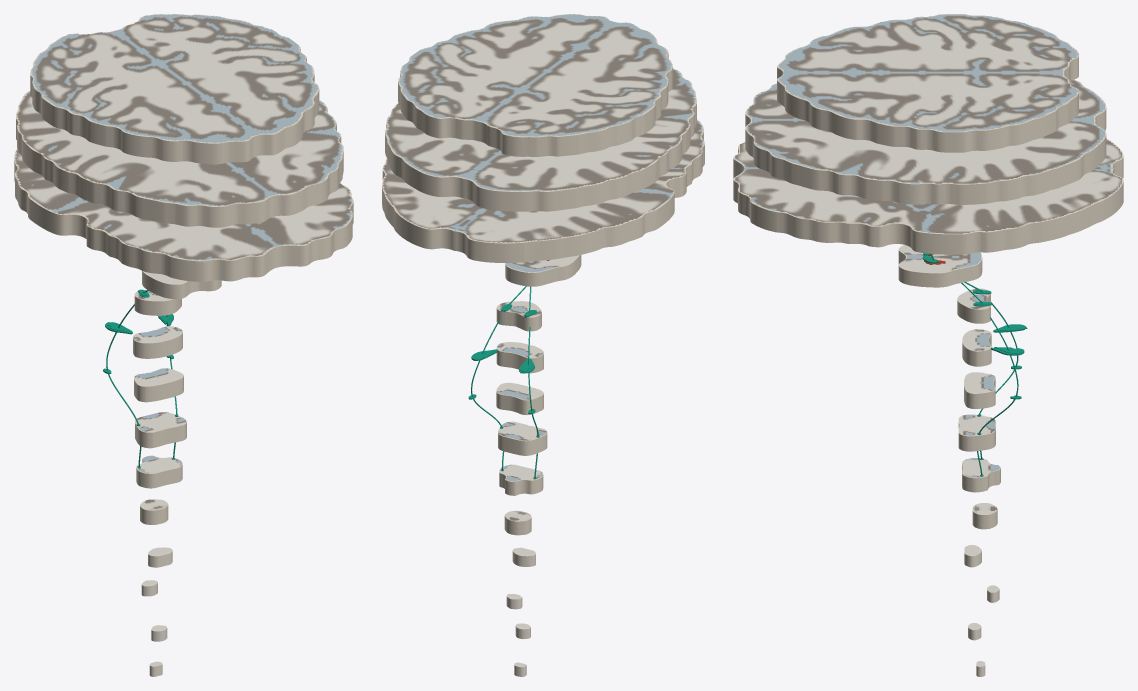
The picture shows the model from 3 angles, left to right: view 1: azimuth 30°, elevation 25°; view 2: azimuth 150°, elevation 25°; view 3: azimuth 270°, elevation 25°; orthographic projection. The views are drawn at different scales.
Parts seen in each view (by area): view 1: L15·切面（灰白质）, L14·切面（灰白质）, L13·切面（灰白质）, L13·背景·丘脑内囊, L14·背景·放射冠, L15·背景·皮质上部, L11·背景·下丘, L07·背景·橄榄中部, L09·背景·脑桥中部, L08·背景·脑桥下部, L06·背景·丘系交叉, L10·背景·脑桥上部 (+4 smaller); view 2: L15·切面（灰白质）, L14·切面（灰白质）, L13·切面（灰白质）, L13·背景·丘脑内囊, L14·背景·放射冠, L15·背景·皮质上部, L11·背景·下丘, L07·背景·橄榄中部, L08·背景·脑桥下部, L10·背景·脑桥上部, L06·背景·丘系交叉, L07·切面（灰白质） (+5 smaller); view 3: L15·切面（灰白质）, L14·切面（灰白质）, L13·切面（灰白质）, L13·背景·丘脑内囊, L14·背景·放射冠, L15·背景·皮质上部, L11·背景·下丘, L11·切面（灰白质）, L07·切面（灰白质）, L07·背景·橄榄中部, L06·背景·丘系交叉, L08·切面（灰白质）.
Boxes of the visible parts, x1,y1,x2,y2 form: L15·切面（灰白质）: [31, 14, 318, 142]; L14·切面（灰白质）: [17, 91, 342, 206]; L13·切面（灰白质）: [15, 150, 352, 260]; L13·背景·丘脑内囊: [14, 148, 353, 281]; L14·背景·放射冠: [16, 91, 343, 227]; L15·背景·皮质上部: [30, 14, 319, 164]; L11·背景·下丘: [142, 271, 221, 299]; L07·背景·橄榄中部: [135, 413, 186, 448]; L09·背景·脑桥中部: [133, 329, 182, 358]; L08·背景·脑桥下部: [134, 373, 183, 402]; L06·背景·丘系交叉: [136, 458, 182, 488]; L10·背景·脑桥上部: [134, 293, 181, 315]; L15·切面（灰白质）: [399, 14, 671, 136]; L14·切面（灰白质）: [385, 68, 695, 191]; L13·切面（灰白质）: [383, 121, 703, 242]; L13·背景·丘脑内囊: [382, 119, 704, 263]; L14·背景·放射冠: [385, 68, 696, 211]; L15·背景·皮质上部: [398, 14, 672, 156]; L11·背景·下丘: [505, 255, 581, 286]; L07·背景·橄榄中部: [498, 423, 547, 455]; L08·背景·脑桥下部: [496, 384, 543, 415]; L10·背景·脑桥上部: [496, 301, 541, 331]; L06·背景·丘系交叉: [499, 469, 543, 495]; L07·切面（灰白质）: [498, 421, 546, 440]; L15·切面（灰白质）: [779, 14, 1078, 131]; L14·切面（灰白质）: [747, 80, 1104, 183]; L13·切面（灰白质）: [735, 138, 1121, 233]; L13·背景·丘脑内囊: [733, 139, 1123, 254]; L14·背景·放射冠: [745, 79, 1106, 204]; L15·背景·皮质上部: [777, 14, 1078, 152]; L11·背景·下丘: [898, 245, 982, 287]; L11·切面（灰白质）: [900, 245, 980, 272]; L07·切面（灰白质）: [959, 414, 995, 435]; L07·背景·橄榄中部: [958, 418, 995, 451]; L06·背景·丘系交叉: [962, 460, 1000, 492]; L08·切面（灰白质）: [965, 372, 995, 393].
Size of the model in its own units: 13.92 by 29.72 by 17.47.
